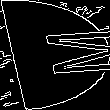M_W: (6, 29, 104, 81)
